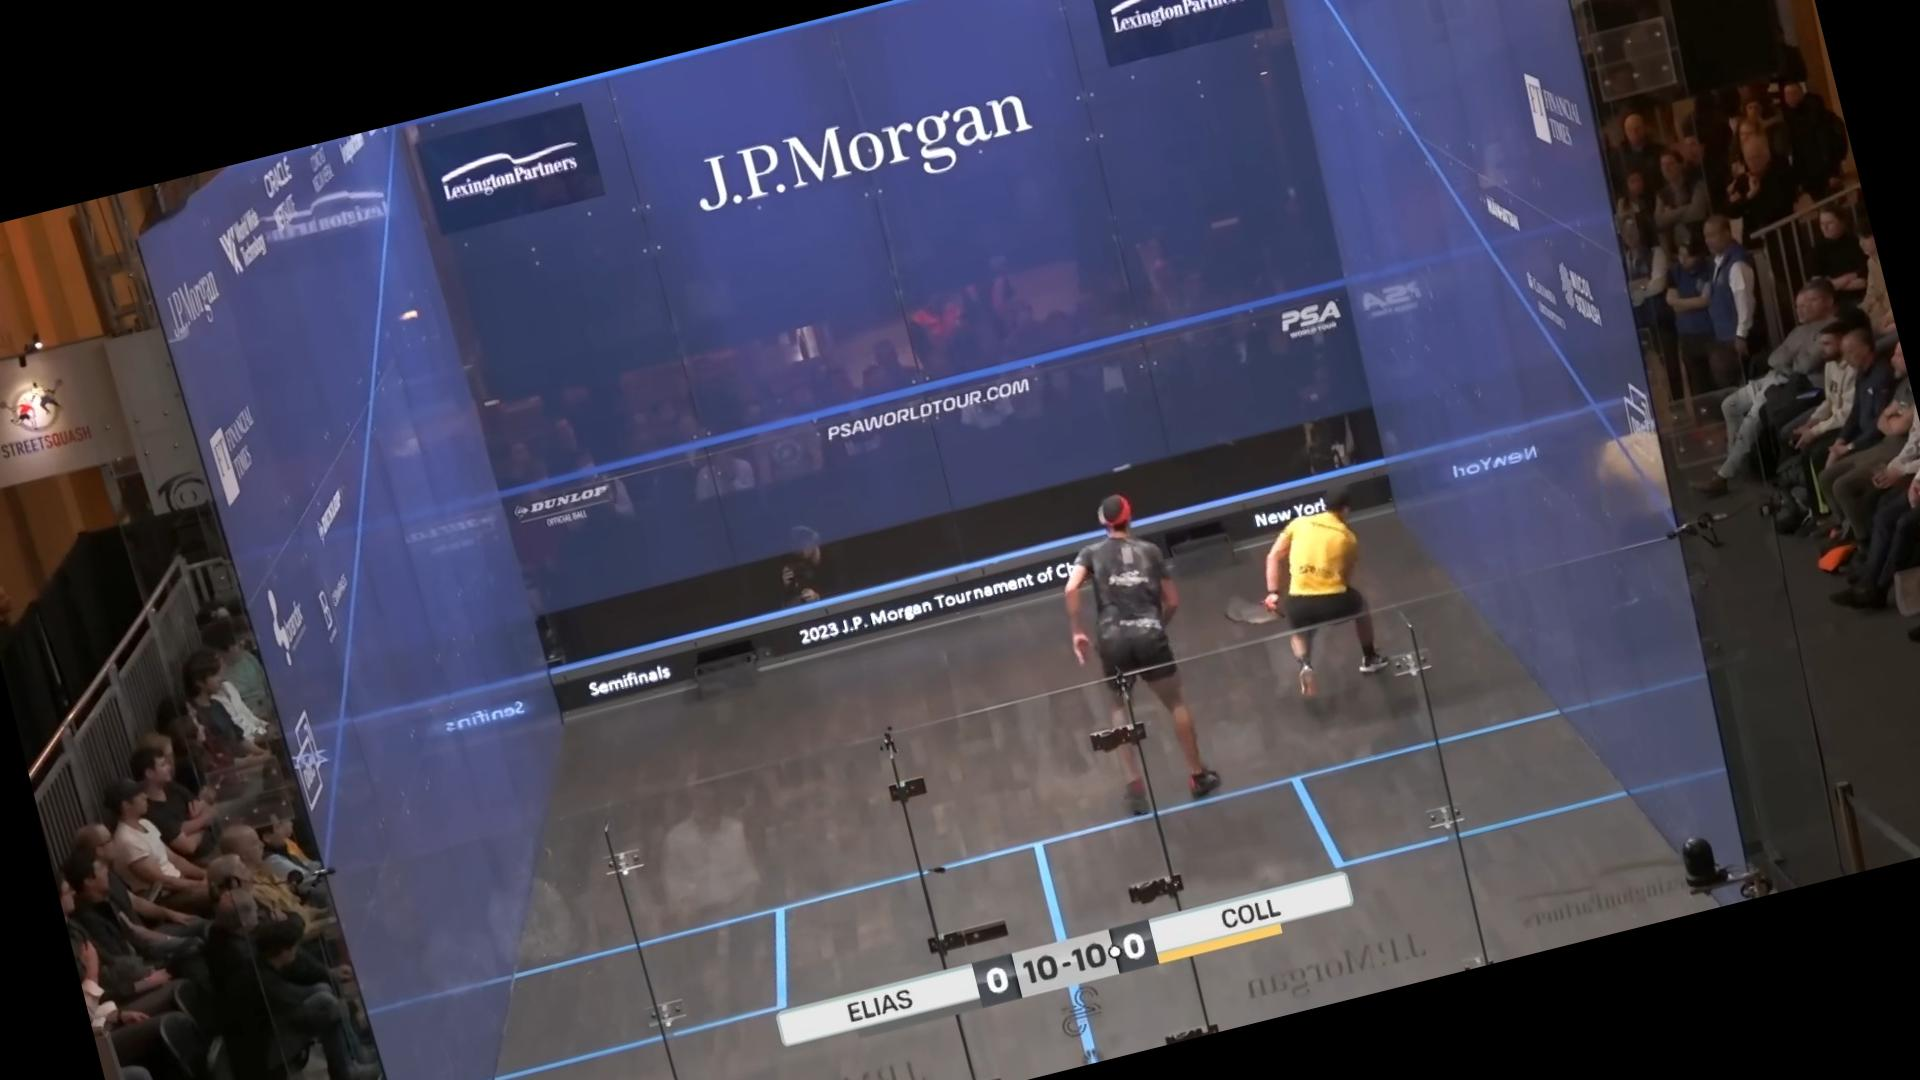Racket: (1211, 578, 1294, 638)
